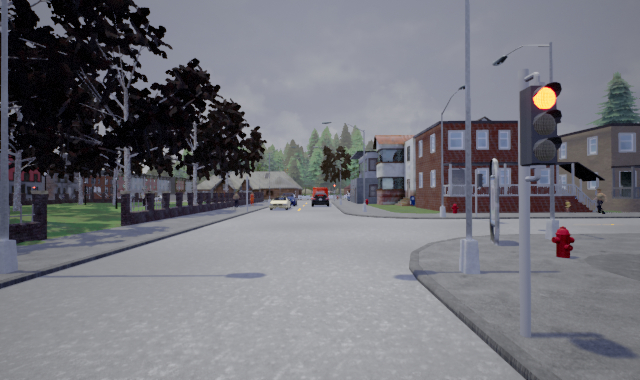pedestrian: (591, 187, 610, 214), (561, 198, 574, 214), (233, 190, 240, 208)
traffic_light: (520, 81, 563, 167)
vehicle: (269, 196, 291, 211), (310, 192, 329, 206)
